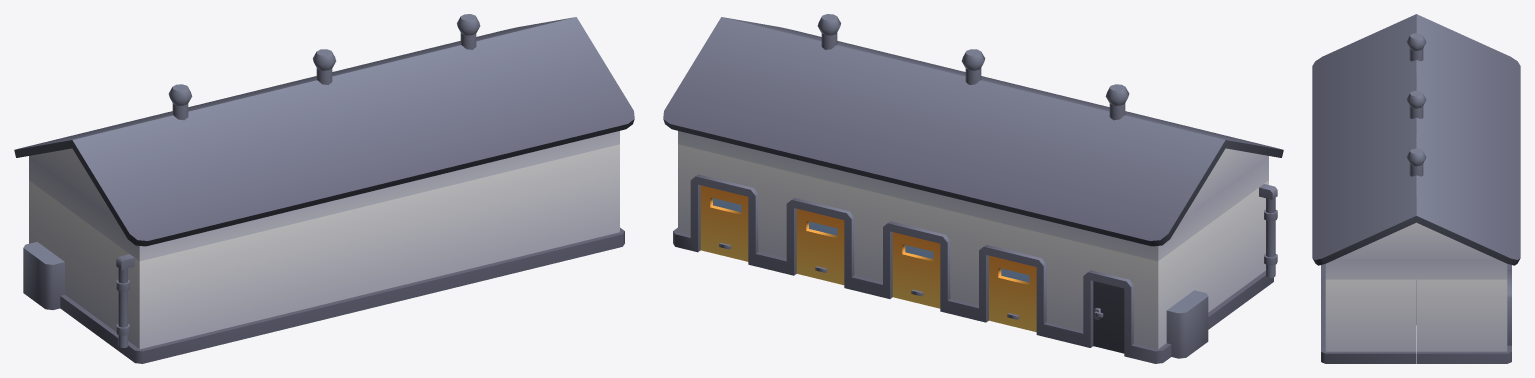
Rendered from kenney-industrial_building-s.glb.
3 views of the same model, side by side, from view 1: azimuth 30°, elevation 25°; view 2: azimuth 150°, elevation 25°; view 3: azimuth 270°, elevation 25° (orthographic). The views are drawn at different scales.
Parts seen in each view (by area): view 1: building-s; view 2: building-s; view 3: building-s.
Part boxes in pixels (x1,y1,x2,y2): building-s: (14, 14, 634, 363); building-s: (663, 14, 1283, 363); building-s: (1312, 14, 1520, 363).
Size of the model in its own units: 2.12 by 0.8368 by 0.9163.
Materials: 2 (2 with a texture image).
